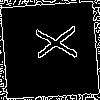X: (25, 25, 78, 62)
